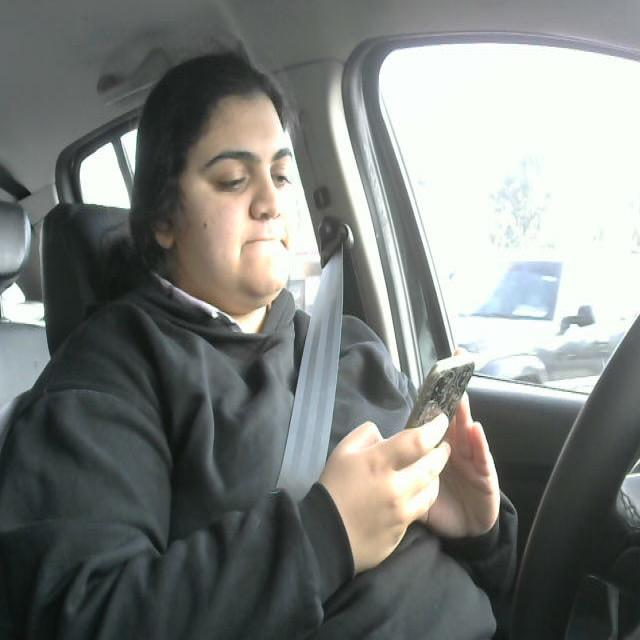mobile use: (408, 347, 468, 466)
